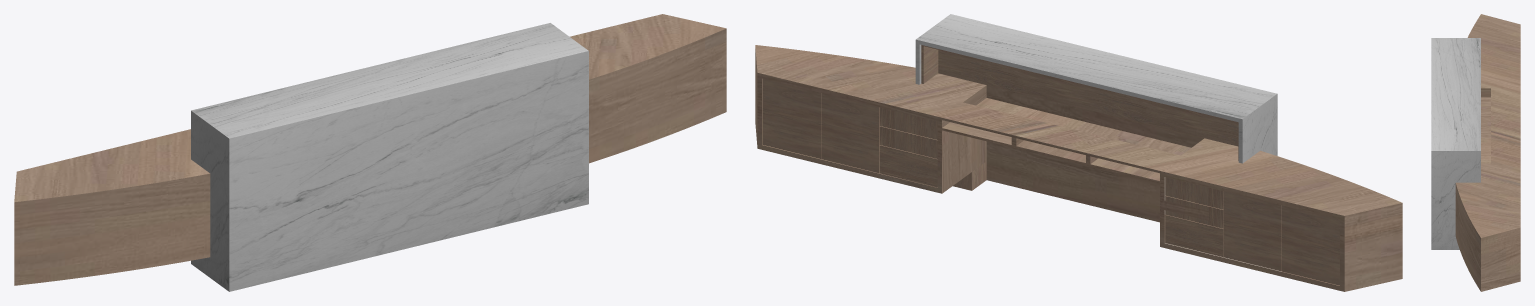
Rendered from mesa_recepcao.glb.
The picture shows the model from 3 angles, left to right: view 1: azimuth 30°, elevation 25°; view 2: azimuth 150°, elevation 25°; view 3: azimuth 270°, elevation 25°; orthographic projection. The views are drawn at different scales.
Parts seen in each view (by area): view 1: Object_9_/Marble_C_150cm_0, Object_1_/Veneer_B01_120cm_0; view 2: Object_1_/Veneer_B01_120cm_0, Object_9_/Marble_C_150cm_0, Object_10_/Veneer_B01_120cm_9_0, Object_13_/Veneer_B01_120cm_12_0, Object_21_/Veneer_B01_120cm_20_0, Object_14_/Veneer_B01_120cm_13_0, Object_22_/Veneer_B01_120cm_21_0, Object_17_/Veneer_B01_120cm_16_0, Object_18_/Veneer_B01_120cm_17_0, Object_16_/Veneer_B01_120cm_15_0, Object_15_/Veneer_B01_120cm_14_0, Object_20_/Veneer_B01_120cm_19_0 (+2 smaller); view 3: Object_1_/Veneer_B01_120cm_0, Object_9_/Marble_C_150cm_0.
Boxes of the visible parts, bbox=[...] form: Object_9_/Marble_C_150cm_0: bbox=[191, 23, 588, 291]; Object_1_/Veneer_B01_120cm_0: bbox=[14, 14, 726, 285]; Object_1_/Veneer_B01_120cm_0: bbox=[755, 45, 1402, 291]; Object_9_/Marble_C_150cm_0: bbox=[915, 14, 1277, 163]; Object_10_/Veneer_B01_120cm_9_0: bbox=[921, 45, 1238, 160]; Object_13_/Veneer_B01_120cm_12_0: bbox=[762, 79, 821, 158]; Object_21_/Veneer_B01_120cm_20_0: bbox=[1223, 191, 1281, 271]; Object_14_/Veneer_B01_120cm_13_0: bbox=[821, 93, 879, 172]; Object_22_/Veneer_B01_120cm_21_0: bbox=[1282, 205, 1339, 285]; Object_17_/Veneer_B01_120cm_16_0: bbox=[879, 145, 937, 187]; Object_18_/Veneer_B01_120cm_17_0: bbox=[1165, 215, 1223, 257]; Object_16_/Veneer_B01_120cm_15_0: bbox=[879, 126, 937, 158]; Object_15_/Veneer_B01_120cm_14_0: bbox=[879, 107, 937, 139]; Object_20_/Veneer_B01_120cm_19_0: bbox=[1165, 177, 1223, 209]; Object_1_/Veneer_B01_120cm_0: bbox=[1455, 14, 1520, 291]; Object_9_/Marble_C_150cm_0: bbox=[1431, 38, 1480, 249].
Bounding box in the file's own units: 214 × 44 × 36.09.
Materials: 22 (15 with a texture image).
